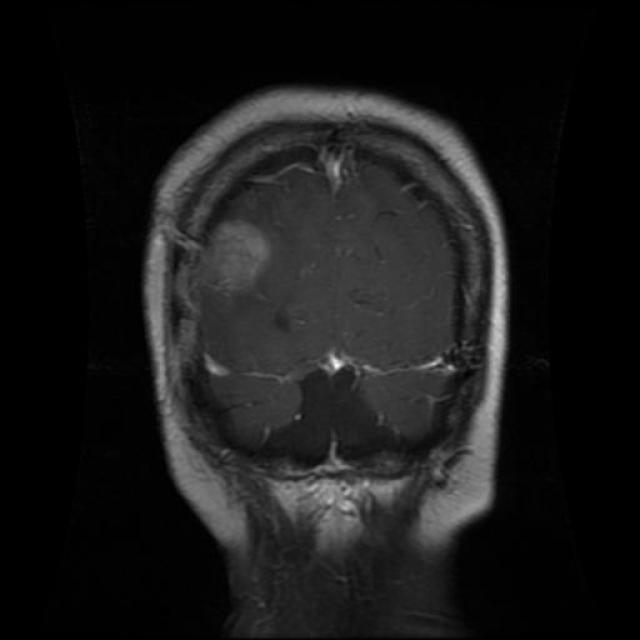glioma: (200, 218, 268, 306)
